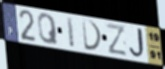2: (18, 9, 37, 43)
D: (81, 18, 104, 53)
I: (66, 15, 76, 49)
J: (128, 27, 148, 60)
Q: (37, 13, 60, 47)
Z: (105, 22, 129, 57)
